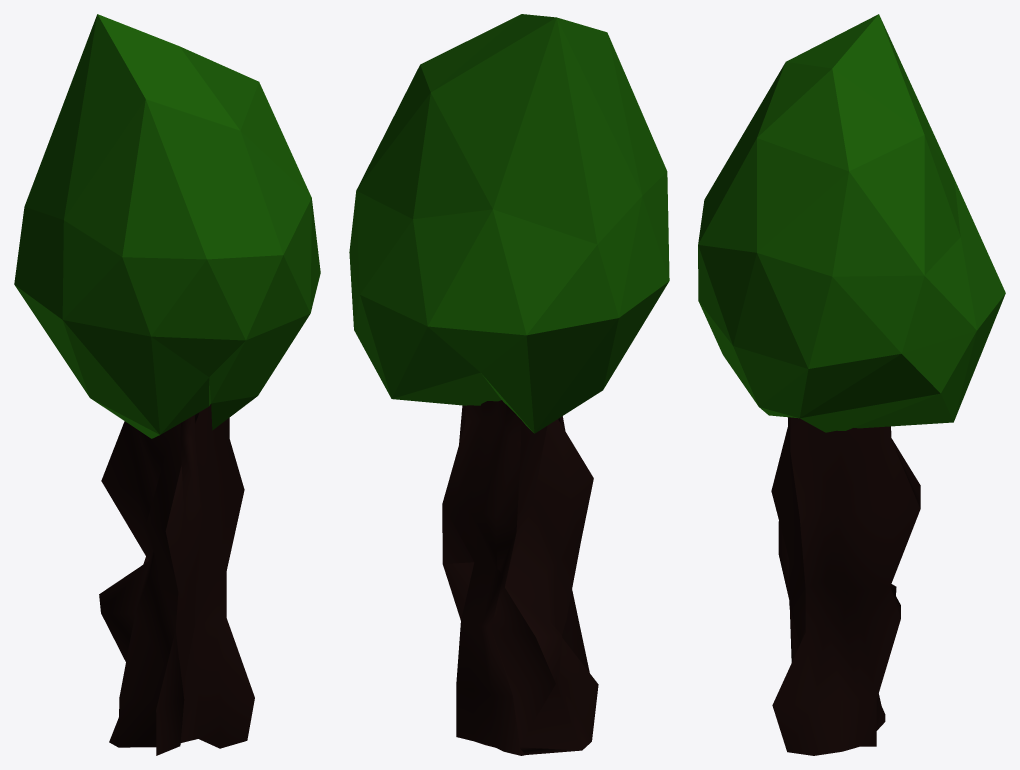
Rendered from tree.DAE.
3 renders of one model, left to right at view 1: azimuth 30°, elevation 25°; view 2: azimuth 150°, elevation 25°; view 3: azimuth 270°, elevation 25°, orthographic. The views are drawn at different scales.
Parts seen in each view (by area): view 1: GeoSphere001; view 2: GeoSphere001; view 3: GeoSphere001, Object001.
Boxes of the visible parts, bbox=[...] form: GeoSphere001: bbox=[14, 14, 320, 755]; GeoSphere001: bbox=[349, 14, 669, 755]; GeoSphere001: bbox=[698, 14, 1005, 755]; Object001: bbox=[800, 394, 938, 432].
Bounding box in the file's own units: 37.38 × 99.69 × 40.11.
